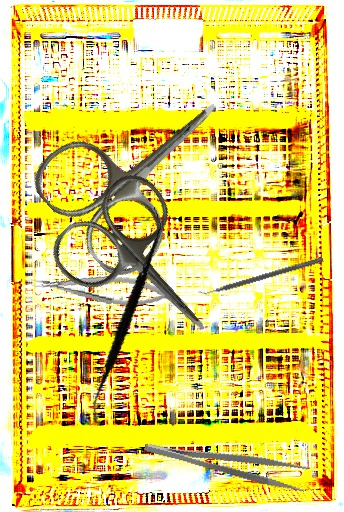Dressing Forceps: (142, 426, 311, 495)
Iris Scissors: (23, 51, 264, 288), (42, 164, 249, 373)
Needle Holder: (30, 264, 177, 313)
Spatula Surgical: (49, 206, 203, 425), (197, 251, 324, 300)
